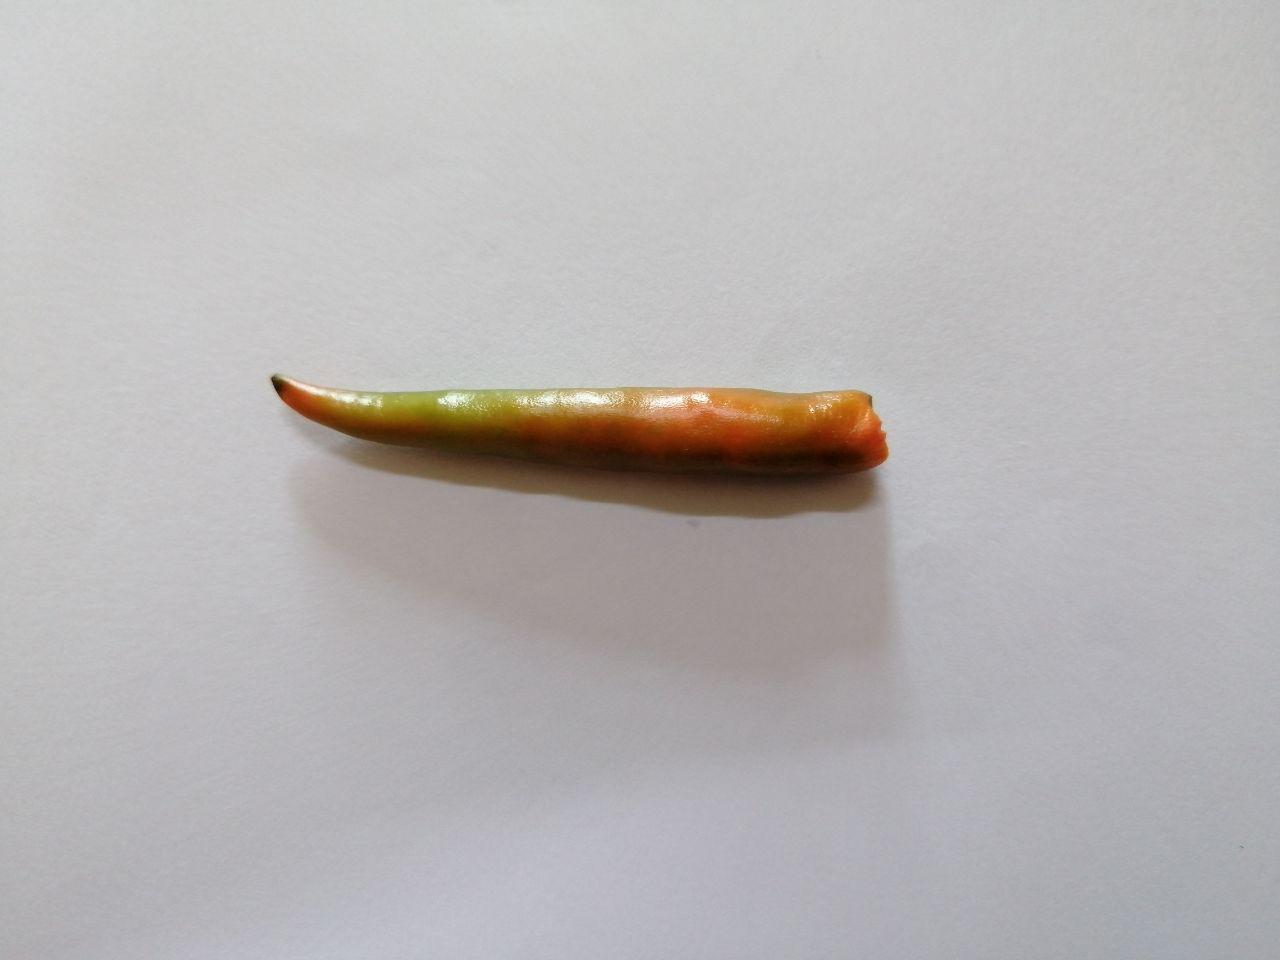lada kuning: (246, 355, 930, 522)
